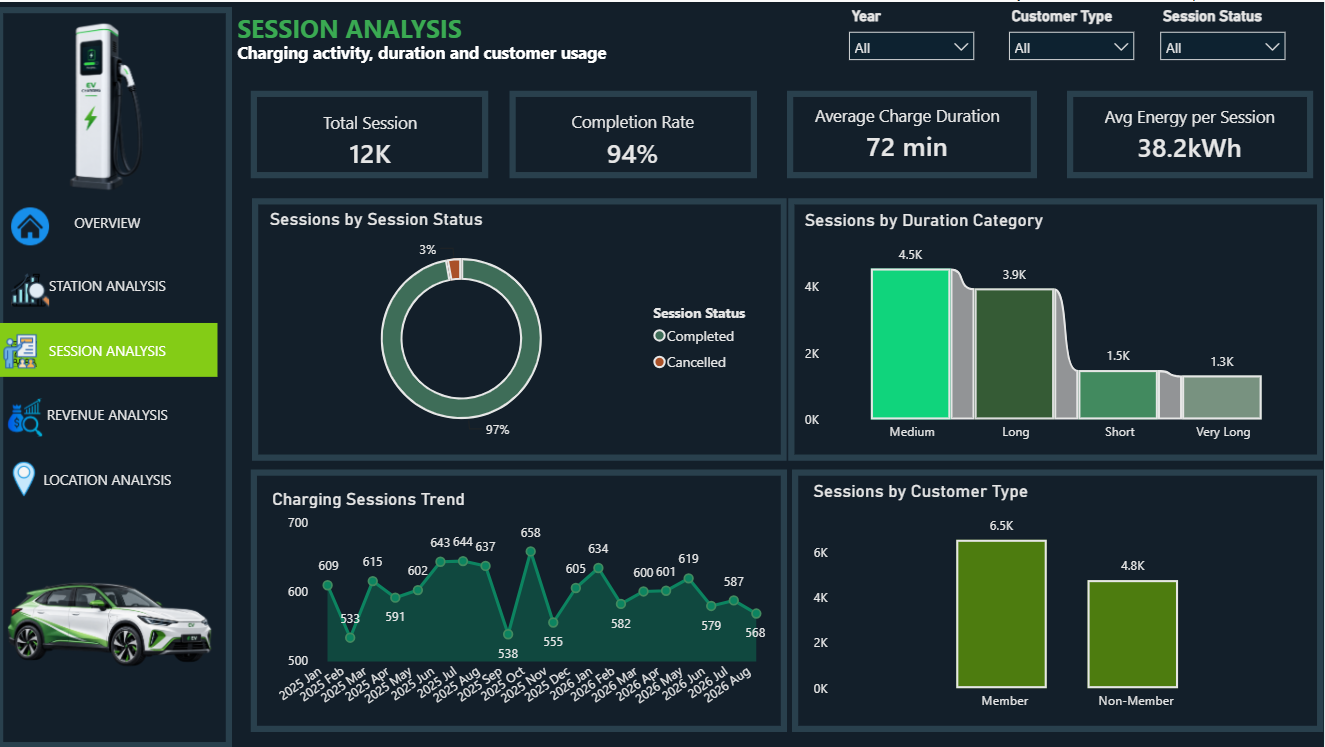

The page's visual inventory and layout, read from the dashboard file:
{"tool":"powerbi","page":{"name":"SESSION ANALYSIS","canvas":[1280,720],"ordinal":2},"visuals":[{"type":"shape","box":[0,4.6,226.8,715.4],"z":0},{"type":"pageNavigator","box":[0,185.8,213.5,300.4],"z":1000},{"type":"textbox","box":[226.8,4.8,739.5,42.2],"z":2000},{"type":"textbox","box":[226.8,32.6,744.4,49.5],"z":3000},{"type":"actionButton","box":[10,253.8,42.5,50],"z":4000},{"type":"actionButton","box":[9.7,194.2,44.6,44.6],"z":5000},{"type":"actionButton","box":[10,256.3,45,45],"z":6000},{"type":"actionButton","box":[10.1,318.2,32.7,42.8],"z":7000},{"type":"actionButton","box":[0,314.9,44.6,44.6],"z":9000},{"type":"actionButton","box":[4.8,378.8,44.6,44.6],"z":10000},{"type":"actionButton","box":[3.6,437.9,44.6,44.6],"z":11000},{"type":"actionButton","box":[16.9,14.5,196.6,173.7],"z":12000},{"type":"actionButton","box":[4.8,482.6,208.7,229.2],"z":13000},{"type":"cardVisual","fields":{"Data":["measure.Total Session"]},"box":[246.1,79.6,228,108.6],"z":14000},{"type":"shape","box":[244.9,85.7,229.2,84.5],"z":15000},{"type":"shape","box":[494.6,85.7,238.9,84.5],"z":16000},{"type":"shape","box":[762.5,85.7,241.3,84.5],"z":17000},{"type":"shape","box":[1032.7,85.7,237.7,84.5],"z":18000},{"type":"cardVisual","fields":{"Data":["measure.Completion Rate"]},"box":[503.1,70,222,126.7],"z":19000},{"type":"cardVisual","fields":{"Data":["measure.Average Charge Duration"]},"box":[754,78.4,249.7,97.7],"z":20000},{"type":"cardVisual","fields":{"Data":["measure.Avg Energy per Session"]},"box":[1029.1,70,244.9,115.8],"z":21000},{"type":"shape","box":[246.1,189.4,516.4,253.4],"z":22000},{"type":"slicer","fields":{"Values":["EV_Charging_Station.Customer_Type"]},"box":[966.4,0,141.2,57.9],"z":23000},{"type":"slicer","fields":{"Values":["EV_Charging_Station.Session_Status"]},"box":[1112.3,0,141.2,57.9],"z":24000},{"type":"shape","box":[763.7,189.4,516.4,253.4],"z":25000},{"type":"shape","box":[244.9,451.2,517.6,253.4],"z":26000},{"type":"shape","box":[767.3,451.2,512.7,253.4],"z":27000},{"type":"donutChart","title":"Sessions by Session Status ","fields":{"Category":["EV_Charging_Station.Session_Status"],"Y":["CountNonNull(EV_Charging_Station.Session_ID)"]},"box":[258.2,199.1,486.2,232.8],"z":28000},{"type":"columnChart","title":"Sessions by Duration Category","fields":{"Category":["EV_Charging_Station.Duration_Category"],"Y":["measure.Completed Session"]},"box":[774.5,200.3,494.6,232.8],"z":29000},{"type":"areaChart","title":"Charging Sessions Trend ","fields":{"Category":["Calander.Year_Month"],"Y":["measure.Total Session"]},"box":[260.6,469.3,486.2,230.4],"z":30000},{"type":"clusteredColumnChart","title":"Sessions by Customer Type ","fields":{"Category":["EV_Charging_Station.Customer_Type"],"Y":["measure.Completed Session"]},"box":[783,462.1,482.6,230.4],"z":31000},{"type":"slicer","fields":{"Values":["Calander.Year"]},"box":[811.9,0,141.2,57.9],"z":32000}]}

Visuals, with their boxes in screenshot pixels (x1, y1, x2, y2), scaled from the page's 1280x720 canvas onto the 1325x747 screenshot:
shape: bbox=[0, 5, 235, 746]
pageNavigator: bbox=[0, 193, 221, 504]
textbox: bbox=[235, 5, 1000, 49]
textbox: bbox=[235, 34, 1005, 85]
actionButton: bbox=[10, 263, 54, 315]
actionButton: bbox=[10, 201, 56, 248]
actionButton: bbox=[10, 266, 57, 313]
actionButton: bbox=[10, 330, 44, 375]
actionButton: bbox=[0, 327, 46, 373]
actionButton: bbox=[5, 393, 51, 439]
actionButton: bbox=[4, 454, 50, 501]
actionButton: bbox=[17, 15, 221, 195]
actionButton: bbox=[5, 501, 221, 738]
cardVisual - measure.Total Session: bbox=[255, 83, 491, 195]
shape: bbox=[254, 89, 491, 177]
shape: bbox=[512, 89, 759, 177]
shape: bbox=[789, 89, 1039, 177]
shape: bbox=[1069, 89, 1315, 177]
cardVisual - measure.Completion Rate: bbox=[521, 73, 751, 204]
cardVisual - measure.Average Charge Duration: bbox=[781, 81, 1039, 183]
cardVisual - measure.Avg Energy per Session: bbox=[1065, 73, 1319, 193]
shape: bbox=[255, 197, 789, 459]
slicer - EV_Charging_Station.Customer_Type: bbox=[1000, 0, 1147, 60]
slicer - EV_Charging_Station.Session_Status: bbox=[1151, 0, 1298, 60]
shape: bbox=[791, 197, 1324, 459]
shape: bbox=[254, 468, 789, 731]
shape: bbox=[794, 468, 1324, 731]
"Sessions by Session Status " donutChart: bbox=[267, 207, 771, 448]
"Sessions by Duration Category" columnChart: bbox=[802, 208, 1314, 449]
"Charging Sessions Trend " areaChart: bbox=[270, 487, 773, 726]
"Sessions by Customer Type " clusteredColumnChart: bbox=[811, 479, 1310, 718]
slicer - Calander.Year: bbox=[840, 0, 987, 60]
